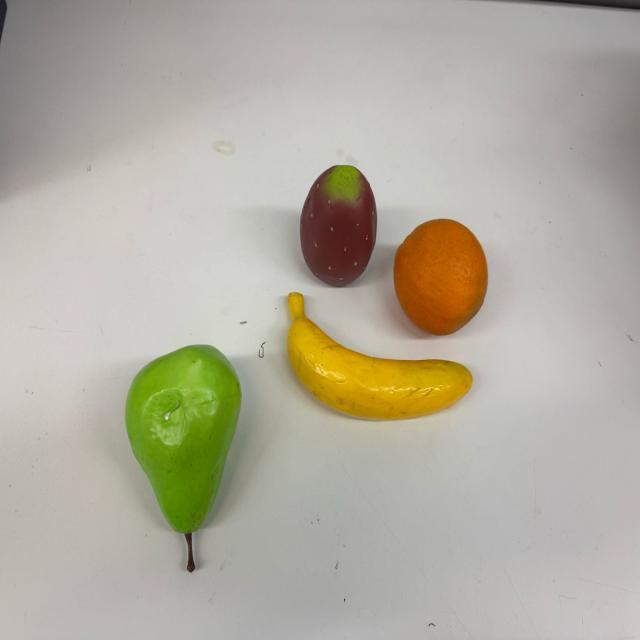banana: (283, 292, 473, 422)
orange: (394, 217, 489, 335)
pear: (125, 342, 243, 574)
tuna: (301, 164, 378, 287)
